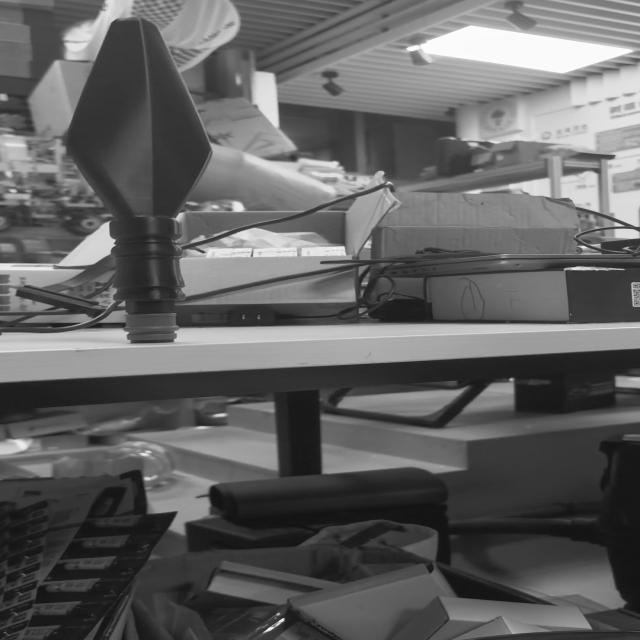base: (115, 310, 187, 350)
